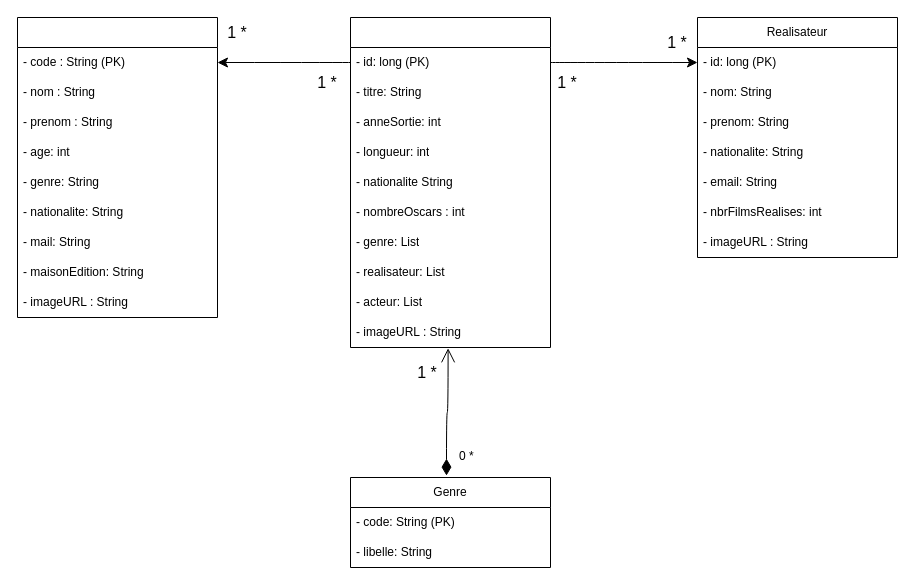
The diagram is 915 pixels wide and 585 high, and some of its shapes have lost their labels. Here are the shapes that lost their labels. From the top down, the box of each, then its label:
(16, 16, 218, 318): Acteur
(350, 16, 550, 348): Film
